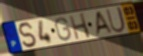4: (38, 19, 54, 45)
A: (95, 10, 114, 37)
G: (54, 17, 73, 42)
H: (68, 12, 93, 41)
S: (17, 21, 39, 49)
U: (105, 6, 127, 34)
